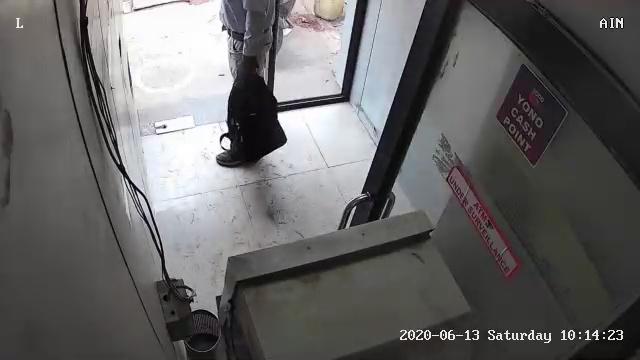open: (115, 4, 383, 166)
